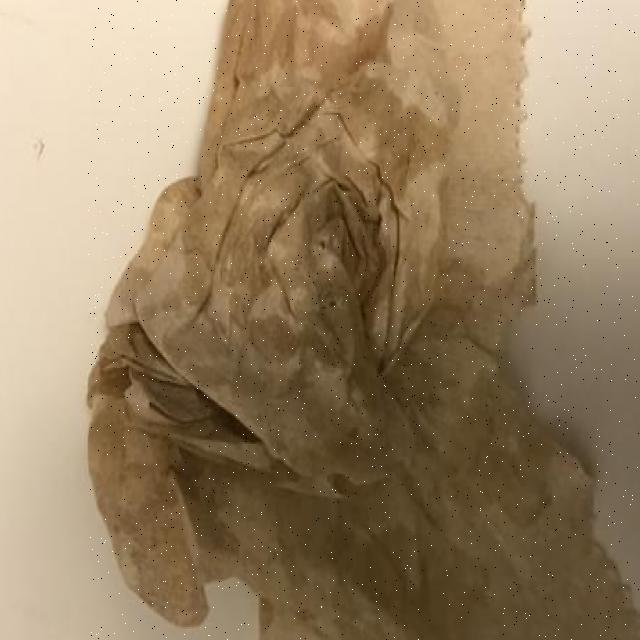paper: (88, 0, 639, 640)
